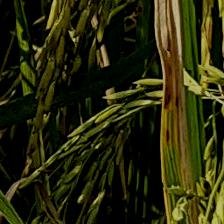2 BacterialBlight: (146, 2, 199, 196)
